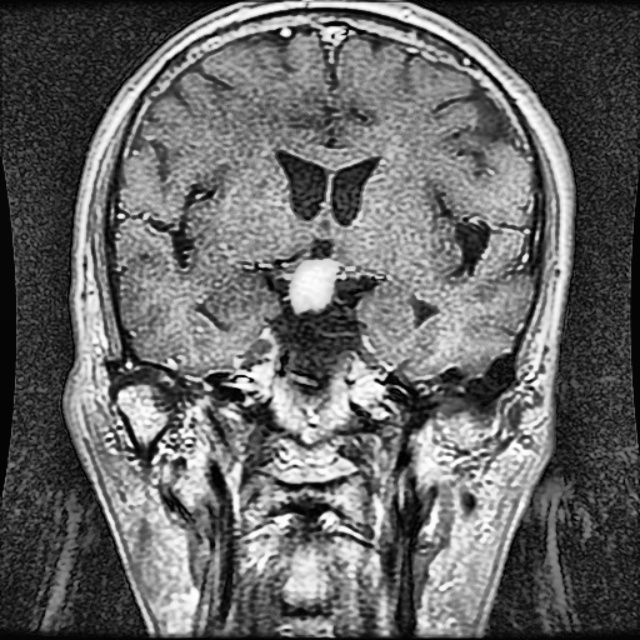Glioma: (289, 255, 338, 312)
